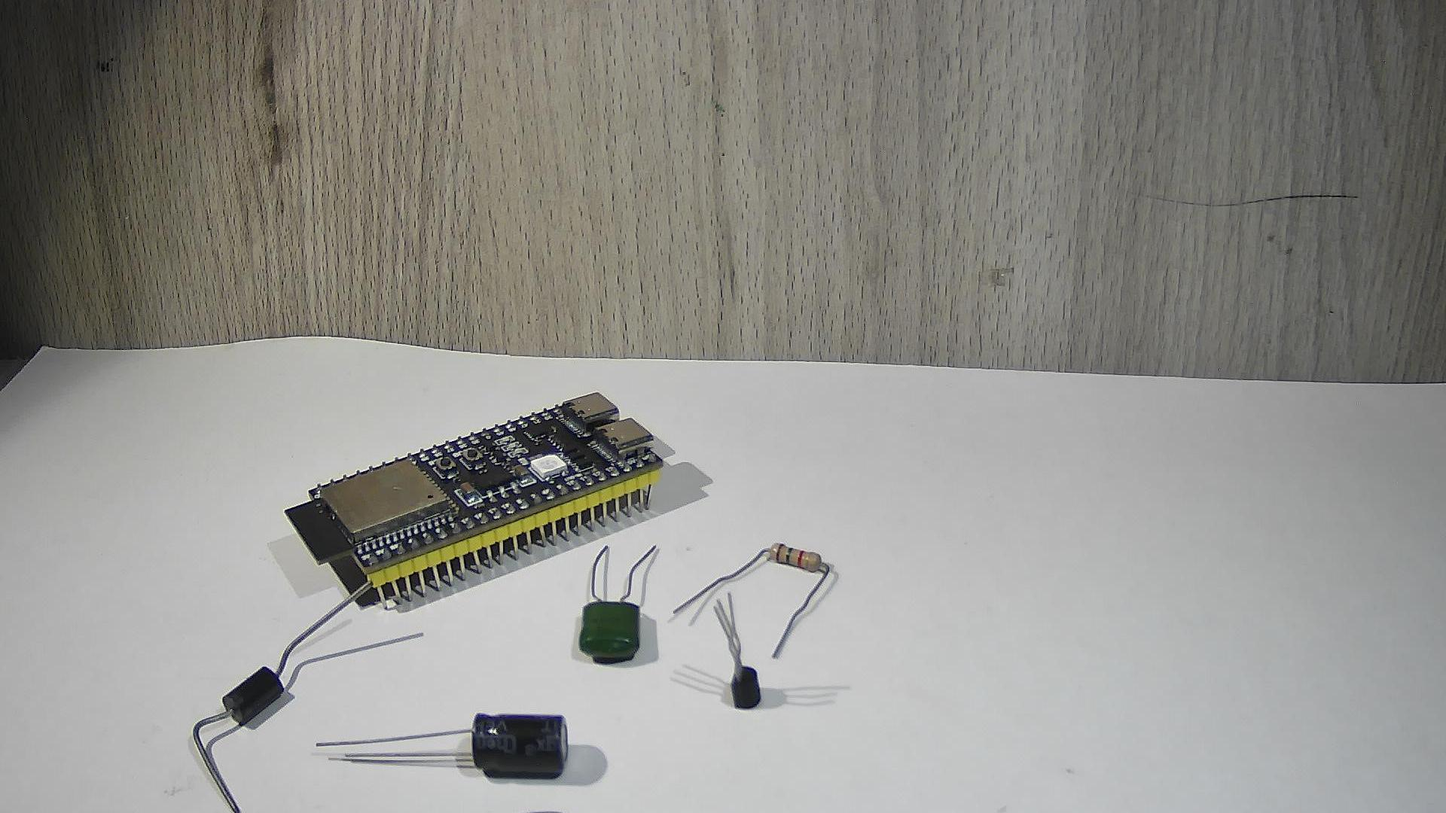Capacitor: (384, 693, 582, 776)
Diodo: (181, 627, 345, 723)
ESP32: (296, 375, 677, 615)
Resistencia: (741, 514, 841, 599)
Transistor: (710, 597, 781, 742)
capacitor ceramico: (568, 541, 671, 685)
